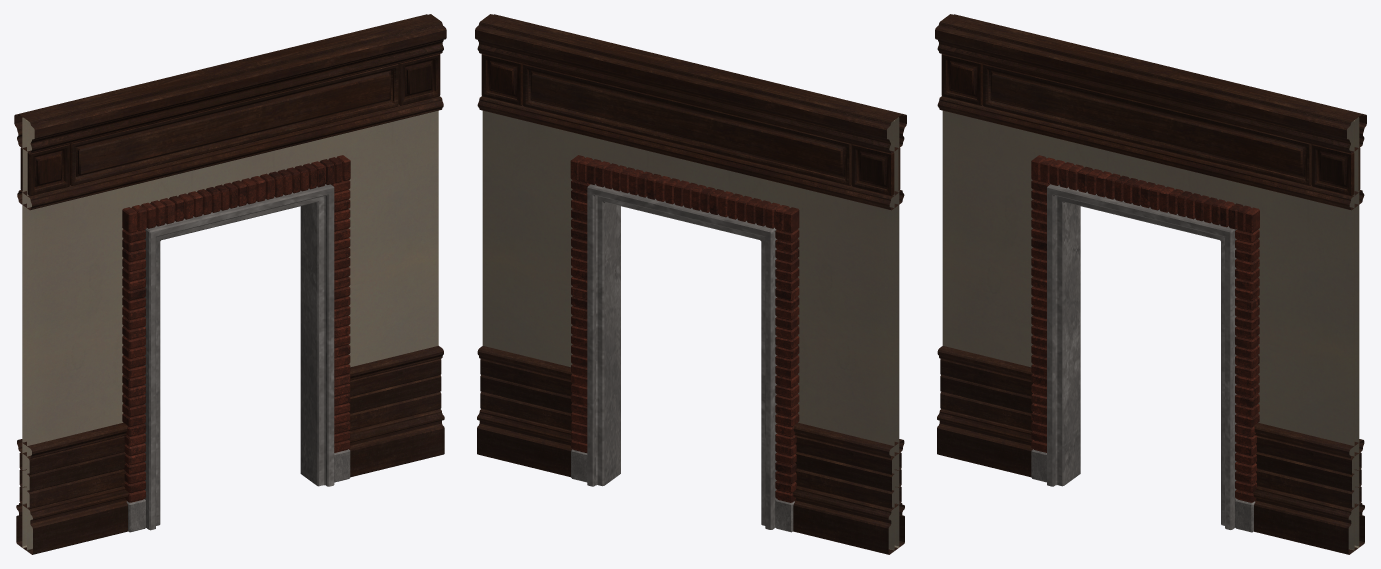
Rendered from SK6 DOOR 2 INT.fbx.
3 renders of one model, left to right at view 1: azimuth 30°, elevation 25°; view 2: azimuth 150°, elevation 25°; view 3: azimuth 330°, elevation 25°, orthographic.
Parts seen in each view (by area): view 1: SK6 DOOR 2 INT; view 2: SK6 DOOR 2 INT; view 3: SK6 DOOR 2 INT.
Part boxes in pixels (left/top/right/bottom): SK6 DOOR 2 INT: left=14, top=14, right=446, bottom=554; SK6 DOOR 2 INT: left=475, top=14, right=906, bottom=554; SK6 DOOR 2 INT: left=935, top=14, right=1366, bottom=554.
Bounding box in the file's own units: 400 × 400 × 40.15.
